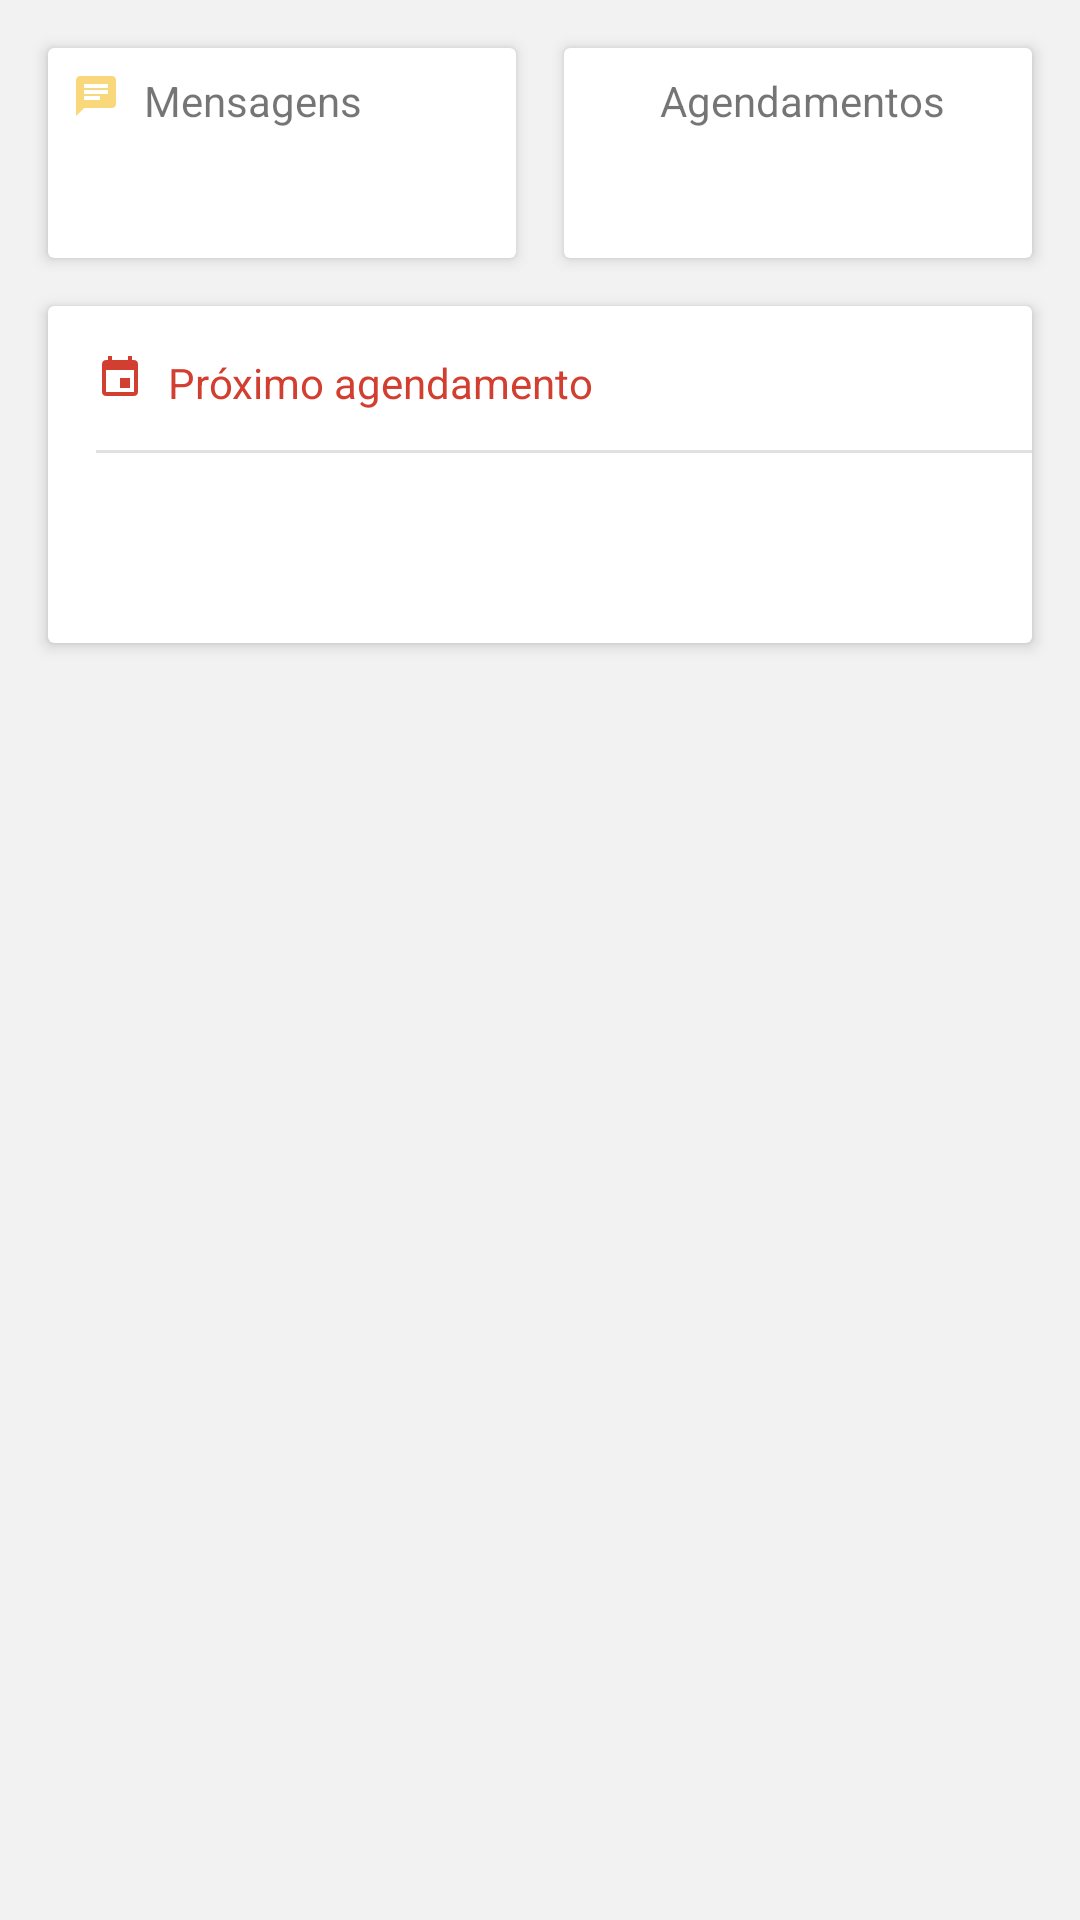

Screen size 1080x1920. Icon name, then its box in pixels as [x1=x1, y1=y1, x2=x2, y2=y2]:
chat: [x1=76, y1=76, x2=116, y2=116]
event: [x1=102, y1=356, x2=138, y2=396]
